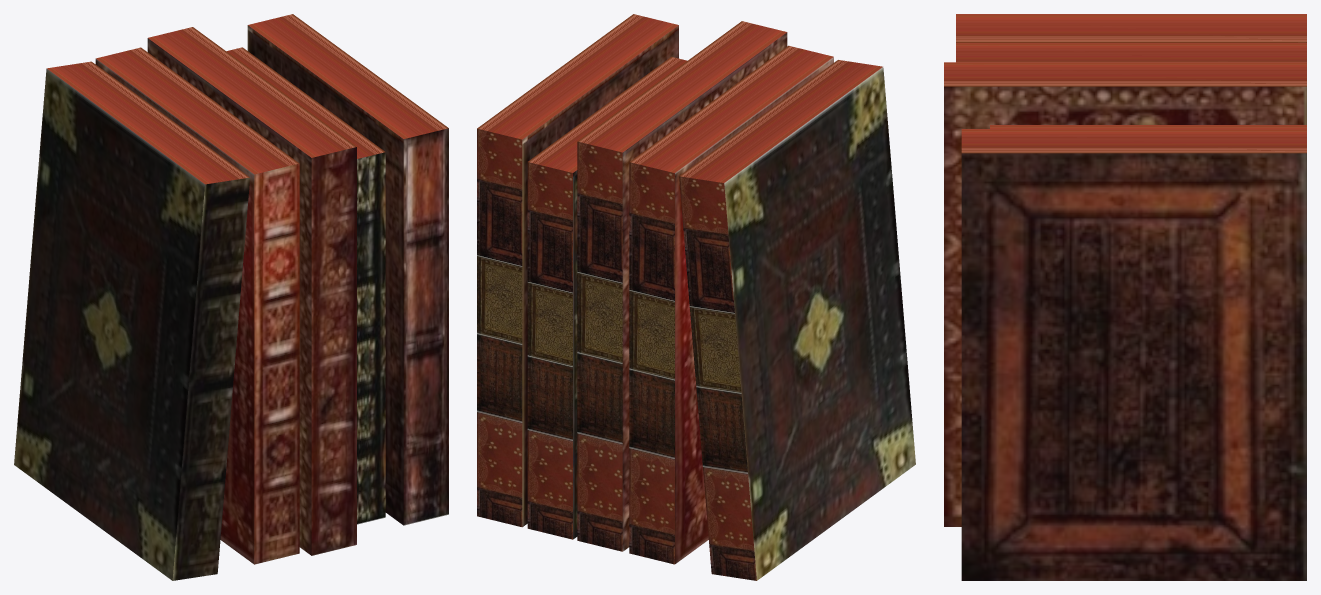
File: 책더미 2.fbx
3 renders of one model, left to right at view 1: azimuth 30°, elevation 25°; view 2: azimuth 150°, elevation 25°; view 3: azimuth 270°, elevation 25°, orthographic. The views are drawn at different scales.
Visible parts, largest first — view 1: Box005, Object002, Box001; view 2: Box005, Object002, Box001; view 3: Box001, Object002, Box005.
Boxes of the visible parts, x1,y1,x2,y2 form: Box005: (14,61,249,580); Object002: (95,27,356,564); Box001: (226,14,448,525); Box005: (679,60,915,580); Object002: (577,21,833,564); Box001: (477,14,687,539); Box001: (961,125,1306,580); Object002: (944,43,1306,526); Box005: (956,14,1306,42).
Bounding box in the file's own units: 12.94 × 17.67 × 13.18.
